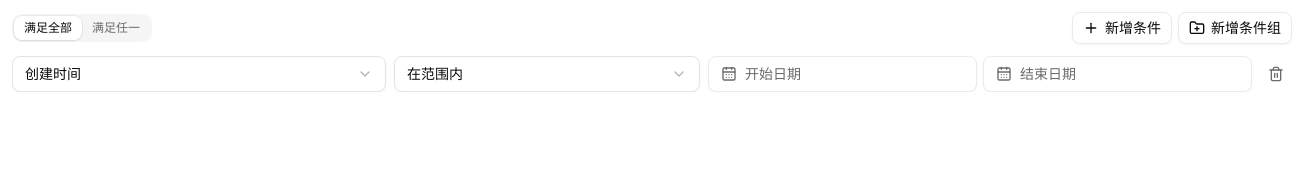
Scenario: ConditionBuilder › offers the operators of the field type, or the subset the field lists
This screenshot has width=1304, height=172.
Click the dropdown named "操作符". click: {"x": 435, "y": 74}
box: top-left (394, 56), bottom-right (700, 92)
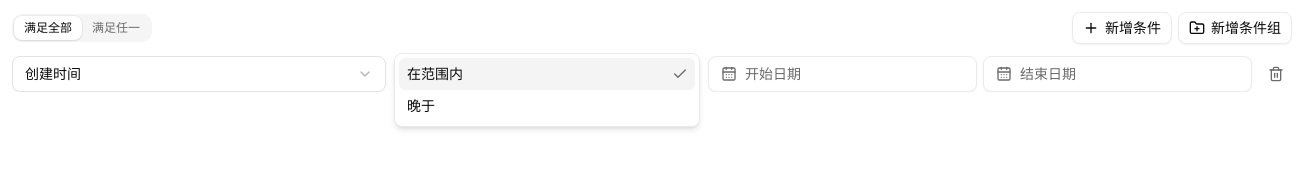
Now the options read "在范围内", "晚于", in this order, box top-left (399, 58), bottom-right (695, 90); top-left (407, 96), bottom-right (435, 115)
